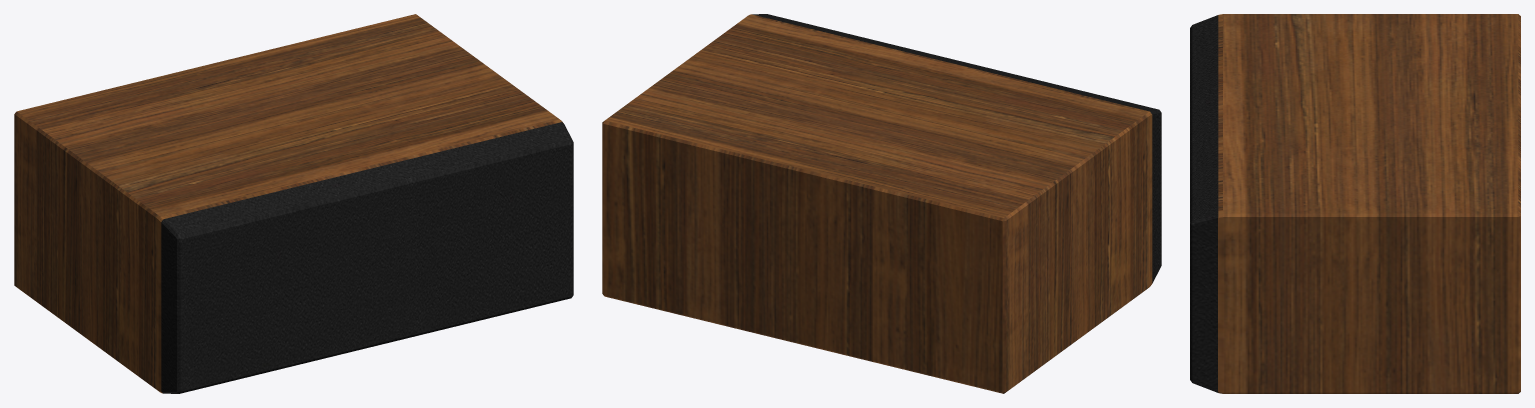
Rendered from sound3d.FBX.
3 views of the same model, side by side, from view 1: azimuth 30°, elevation 25°; view 2: azimuth 150°, elevation 25°; view 3: azimuth 270°, elevation 25° (orthographic). The views are drawn at different scales.
Visible parts, largest first — view 1: sound3d; view 2: sound3d; view 3: sound3d.
Part boxes in pixels (bbox=[...]): sound3d: bbox=[14, 14, 573, 393]; sound3d: bbox=[602, 14, 1161, 393]; sound3d: bbox=[1190, 14, 1520, 393].
Size of the model in its own units: 0.3809 by 0.2639 by 0.1586.
